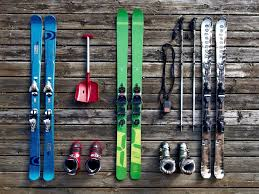skis: (112, 10, 145, 178), (25, 14, 58, 180), (197, 18, 230, 181)
